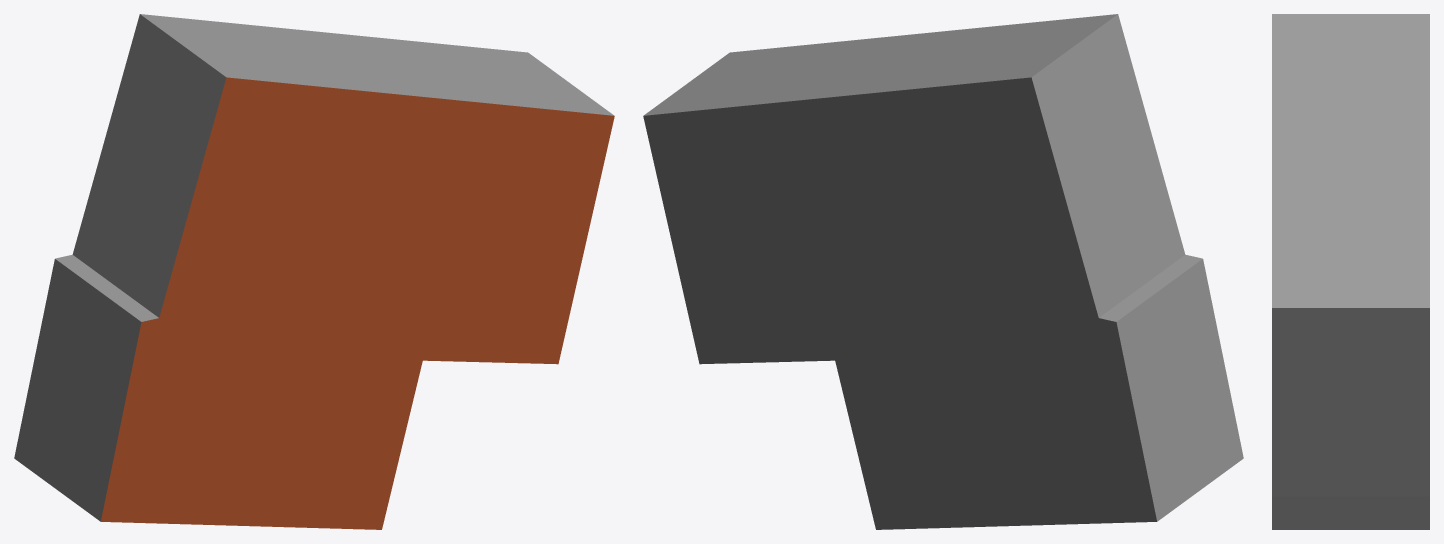
File: construction_5594_assumed_A_Casa_h6m.obj
3 views of the same model, side by side, from view 1: azimuth 30°, elevation 25°; view 2: azimuth 150°, elevation 25°; view 3: azimuth 270°, elevation 25° (orthographic). The views are drawn at different scales.
Parts seen in each view (by area): view 1: construction_5594_assumed_A_Casa; view 2: construction_5594_assumed_A_Casa; view 3: construction_5594_assumed_A_Casa.
Boxes of the visible parts, box(x1,y1,x2,y2) form: construction_5594_assumed_A_Casa: box(14, 14, 614, 529); construction_5594_assumed_A_Casa: box(643, 14, 1243, 529); construction_5594_assumed_A_Casa: box(1272, 14, 1429, 529).
Size of the model in its own units: 20.56 by 18.75 by 6.
